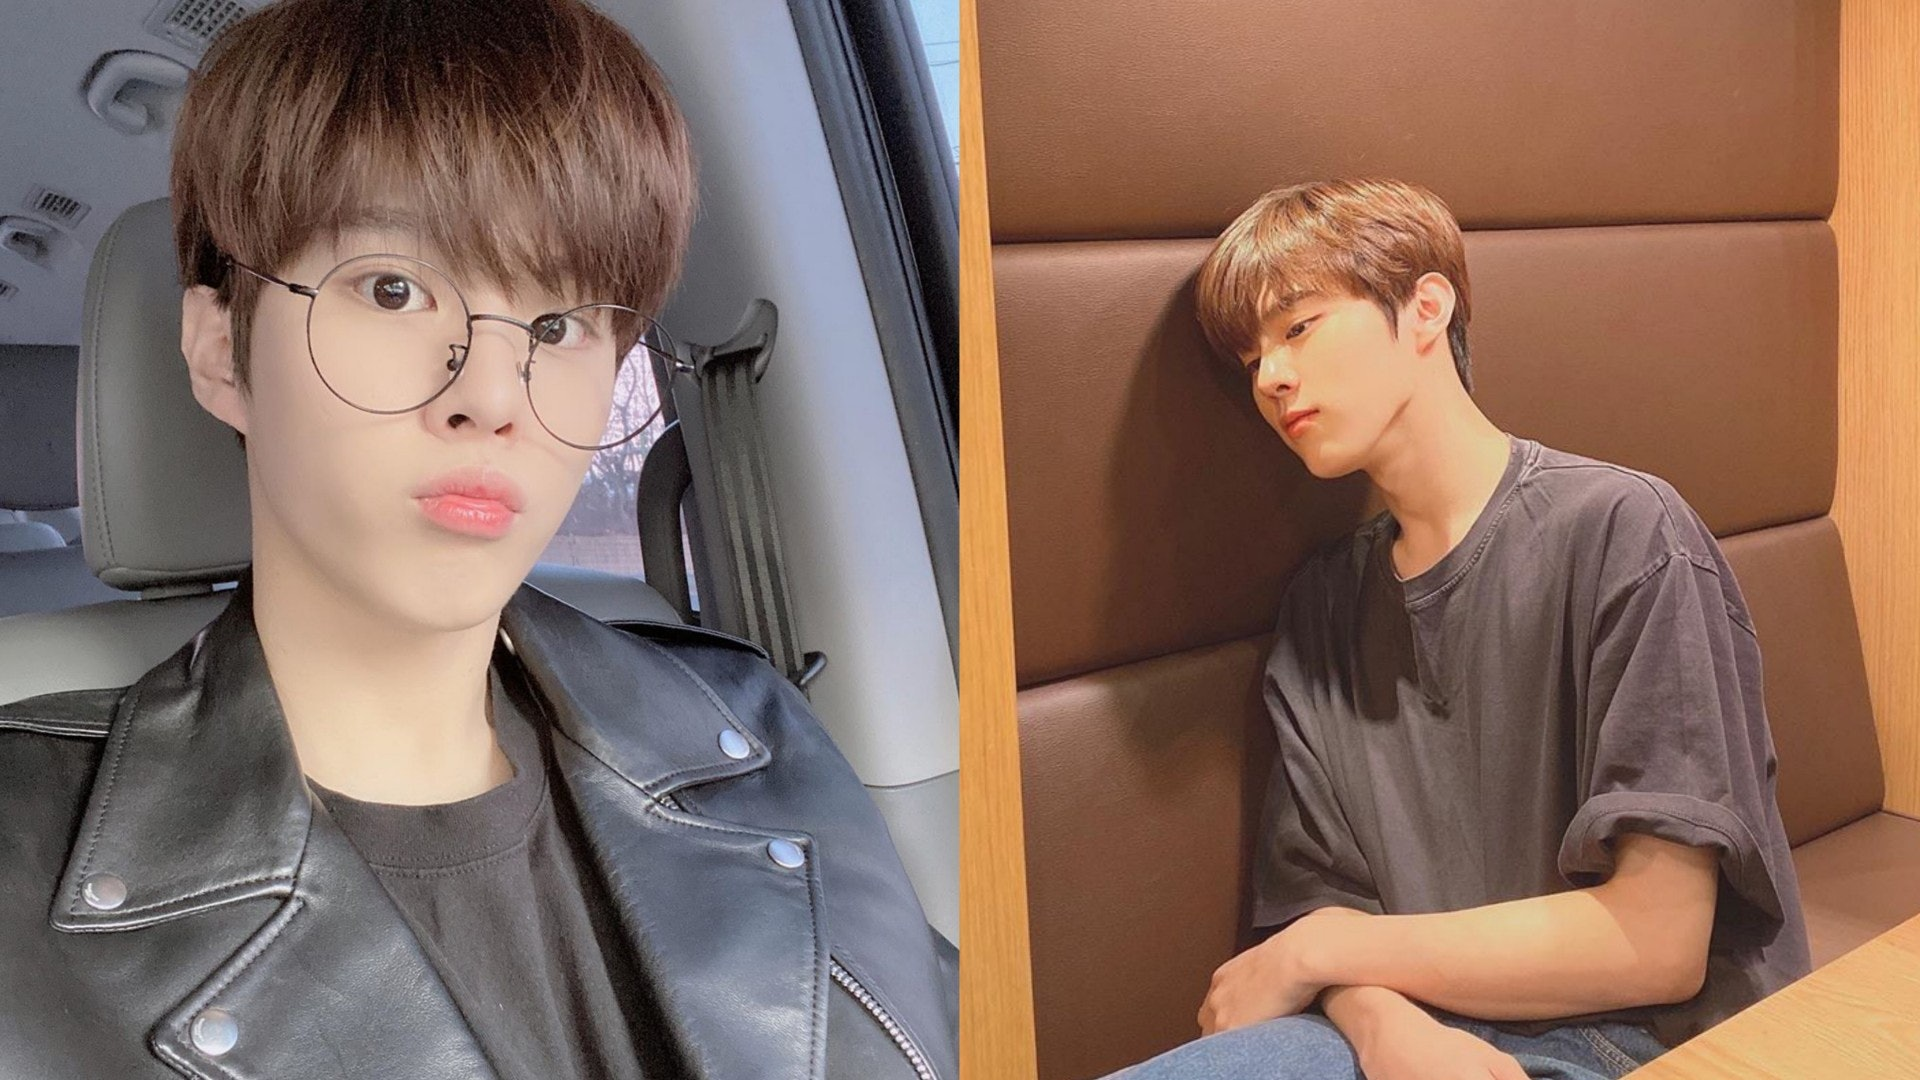people: (137, 1, 802, 1076), (1194, 186, 1810, 1080)
